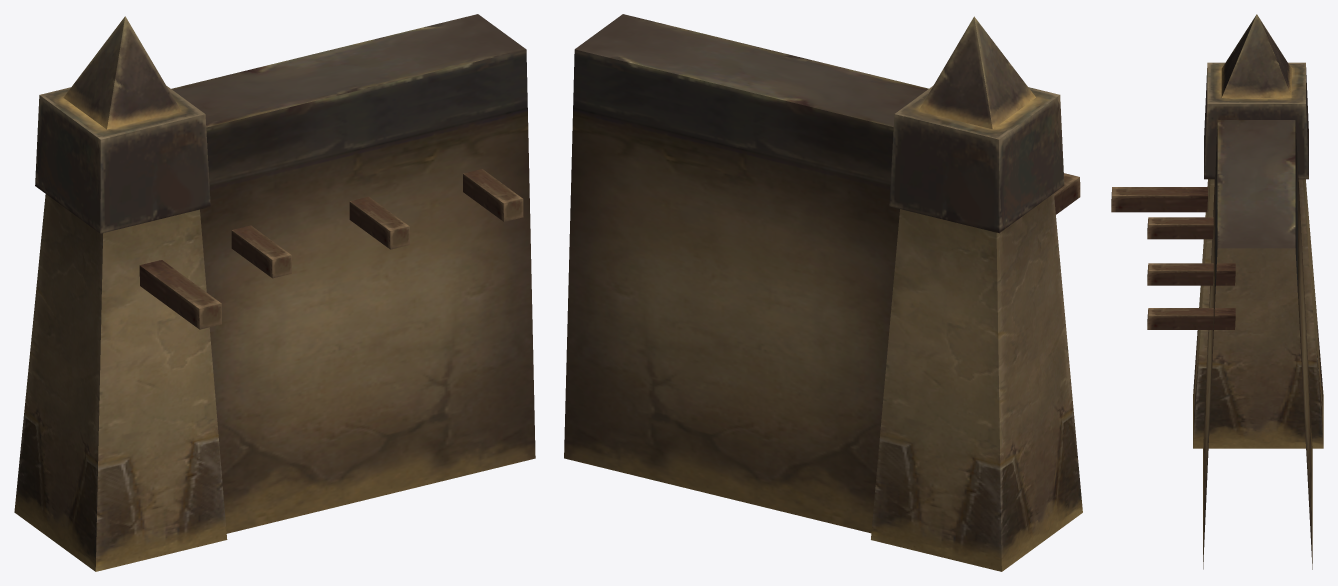
The model's file is building_shamo_jianzhu08.FBX.
3 renders of one model, left to right at view 1: azimuth 30°, elevation 25°; view 2: azimuth 150°, elevation 25°; view 3: azimuth 270°, elevation 25°, orthographic. The views are drawn at different scales.
Visible parts, largest first — view 1: building_shamo_jianzhu08; view 2: building_shamo_jianzhu08; view 3: building_shamo_jianzhu08.
Boxes of the visible parts, left/top/right/bottom form: building_shamo_jianzhu08: left=14, top=14, right=535, bottom=571; building_shamo_jianzhu08: left=564, top=14, right=1082, bottom=571; building_shamo_jianzhu08: left=1111, top=14, right=1323, bottom=569.
Size of the model in its own units: 9.37 by 10.23 by 4.8.
